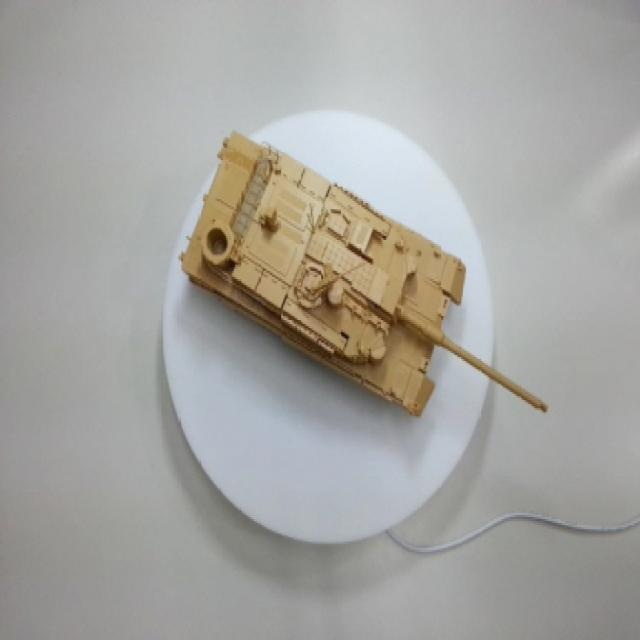korea tank: (134, 123, 557, 439)
